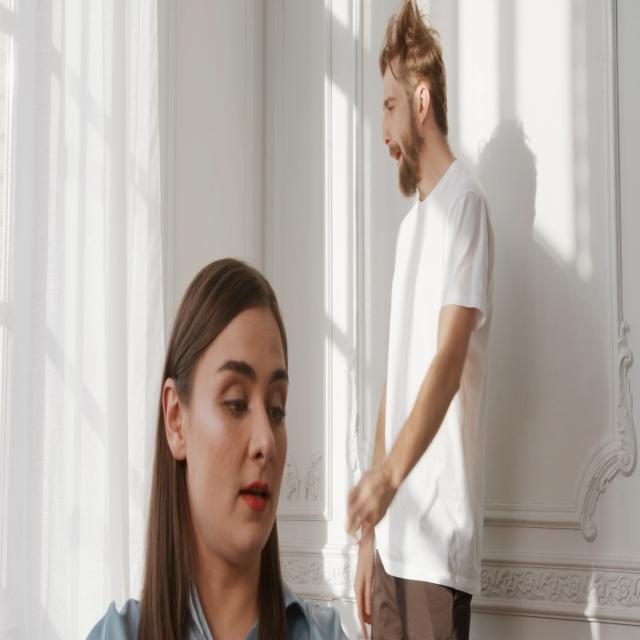Thinking: (370, 12, 450, 199)
satisfied: (153, 277, 333, 562)
